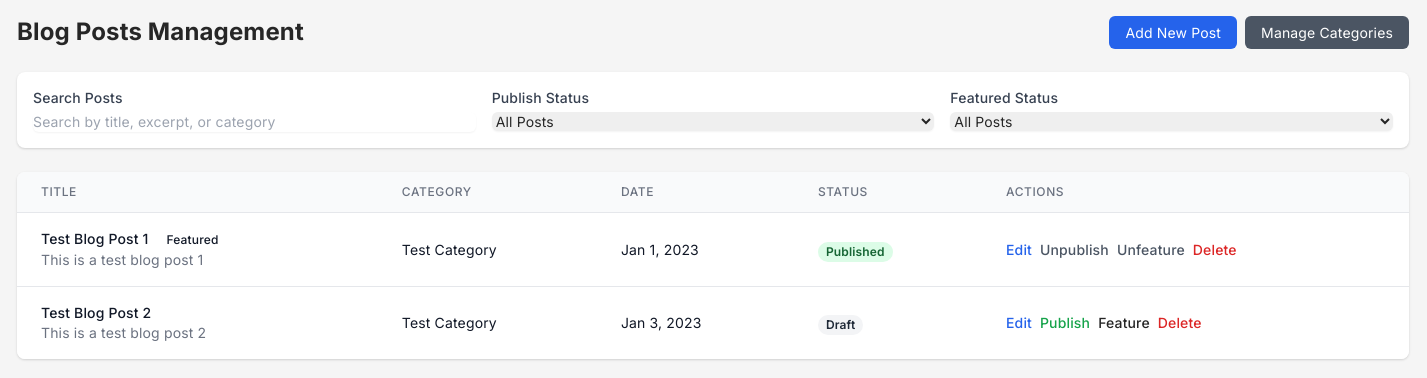
Test: BlogPostsManagement Component › should filter posts by featured status
Expected: the text "Test Blog Post 1" is shown, [41,230,148,247]
Expected: the text "Test Blog Post 2" is shown, [41,304,151,321]
Note: Get the featured filter dropdown and change its value
Select "Featured" in the dropdown labelled "Featured Status": (1172, 122) [950,112,1393,131]
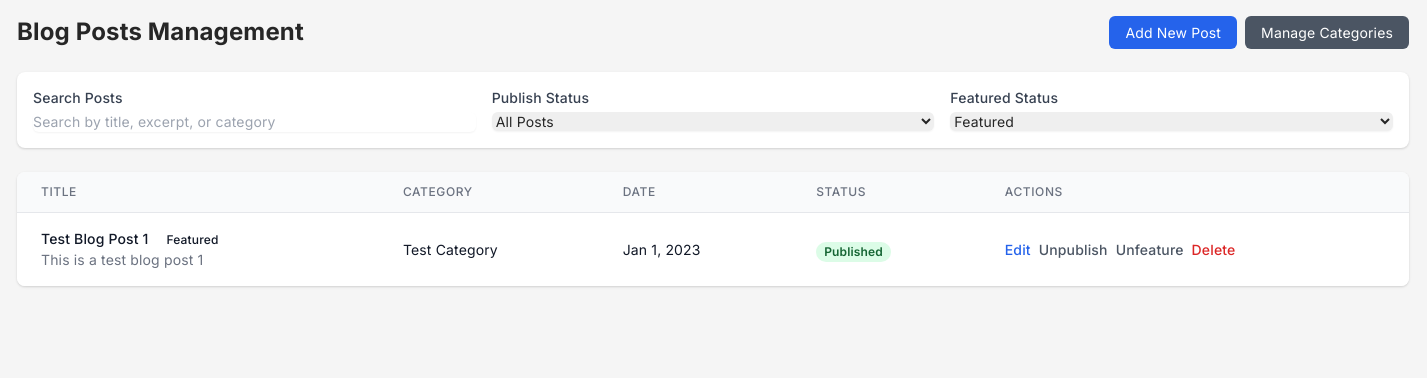
Expected: the text "Test Blog Post 1" is shown, [41,230,148,247]
Expected: the text "Test Blog Post 2" is gone
